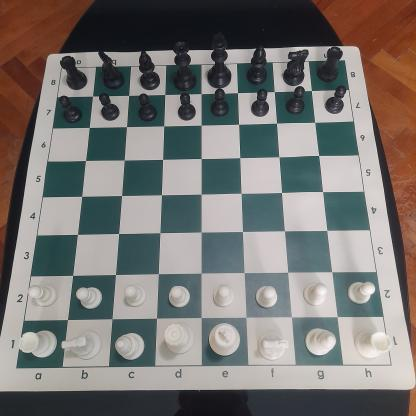black-bishop: (135, 48, 162, 91), (245, 45, 270, 86)
black-king: (205, 31, 236, 89)
black-knight: (96, 47, 127, 91), (283, 47, 307, 86)
black-pawn: (353, 328, 393, 362), (18, 326, 58, 358), (283, 84, 309, 117), (56, 94, 84, 124), (323, 84, 348, 115), (97, 92, 122, 122), (136, 92, 158, 124), (176, 91, 197, 123), (208, 88, 230, 118), (249, 89, 270, 118)
black-queen: (170, 39, 199, 91)
black-rook: (57, 54, 91, 90), (314, 46, 344, 84)
white-bishop: (114, 329, 148, 363), (304, 324, 338, 358)
white-king: (207, 321, 242, 360)
white-knight: (60, 328, 105, 363), (255, 328, 290, 361)
white-pawn: (345, 278, 378, 307), (26, 283, 60, 310), (303, 280, 331, 310), (210, 281, 238, 309), (252, 282, 280, 310), (74, 283, 103, 310), (122, 282, 148, 310), (167, 282, 192, 310)
white-queen: (163, 320, 196, 356)
